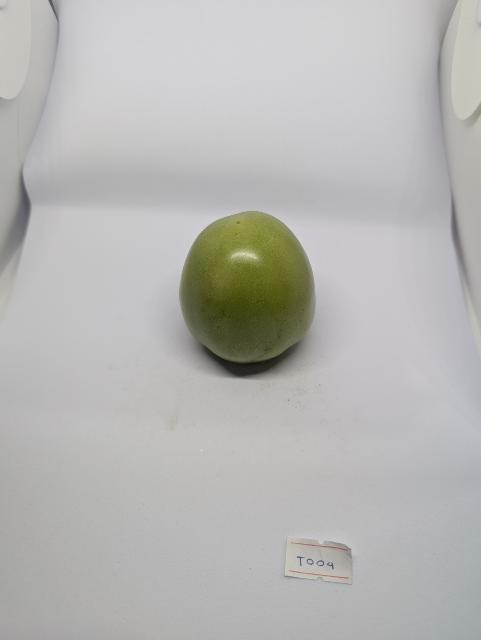green: (178, 210, 317, 364)
